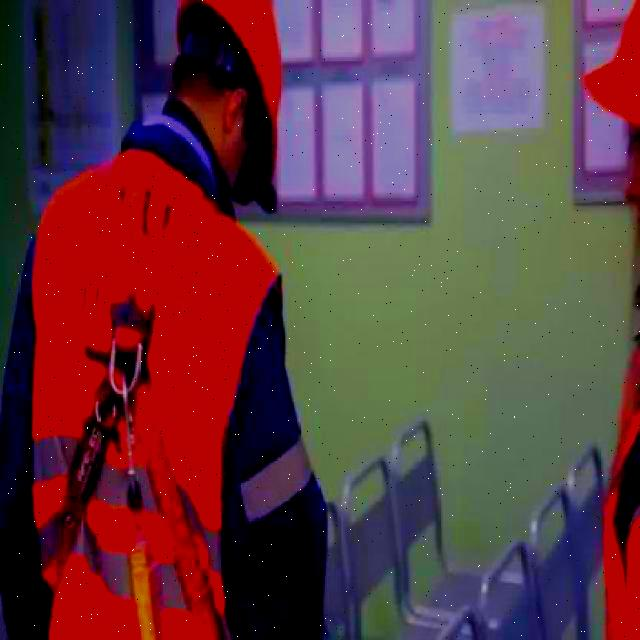Helmet: (174, 0, 282, 196), (580, 0, 638, 134)
Mask: (32, 145, 278, 638)
